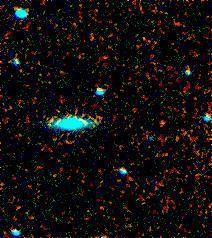star: (147, 107, 177, 137)
